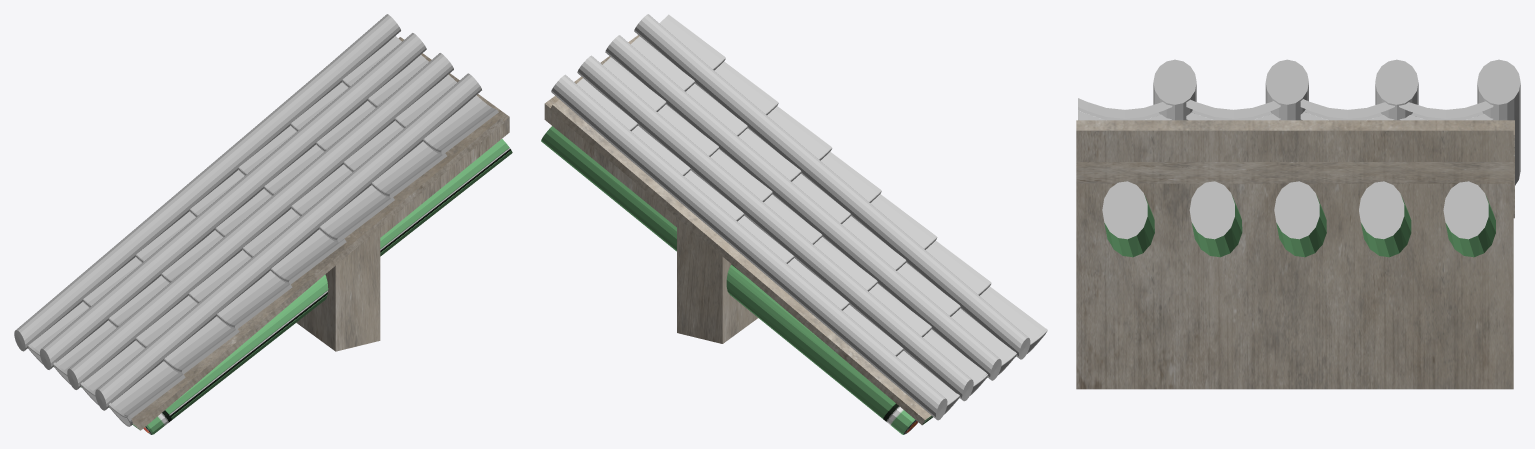
Rendered from SM_Roof_32.fbx.
3 views of the same model, side by side, from view 1: azimuth 30°, elevation 25°; view 2: azimuth 150°, elevation 25°; view 3: azimuth 270°, elevation 25° (orthographic). The views are drawn at different scales.
Visible parts, largest first — view 1: SM_Roof_32; view 2: SM_Roof_32; view 3: SM_Roof_32.
Part boxes in pixels (x1,y1,x2,y2): SM_Roof_32: [14, 14, 512, 434]; SM_Roof_32: [541, 14, 1047, 434]; SM_Roof_32: [1076, 59, 1520, 389].
Size of the model in its own units: 314 by 152 by 205.
